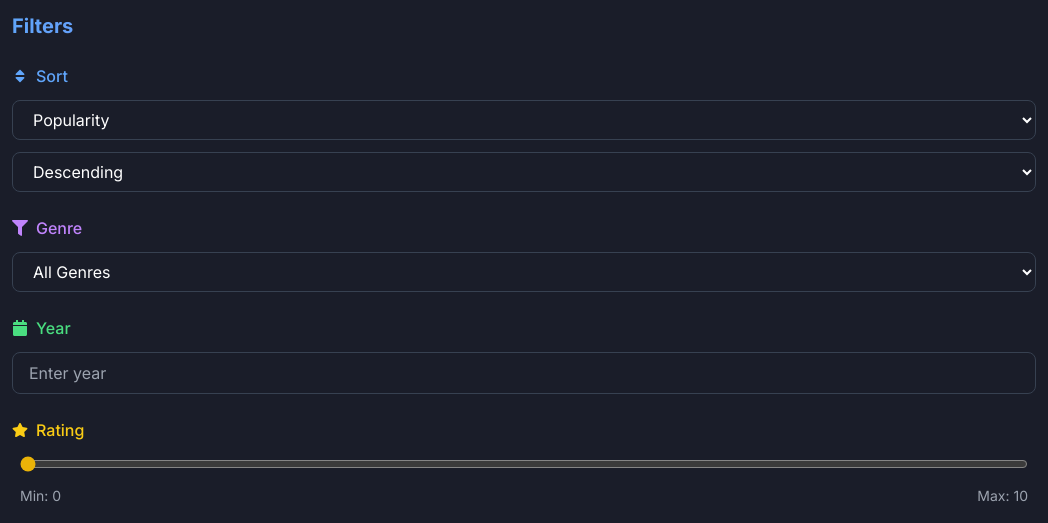
Test: FilterBar › displays current rating value
The width and height of the screenshot is (1048, 523).
Set the slider to "6.5" at {"x": 673, "y": 464}, box x1=20 y1=456 x2=1028 y2=472
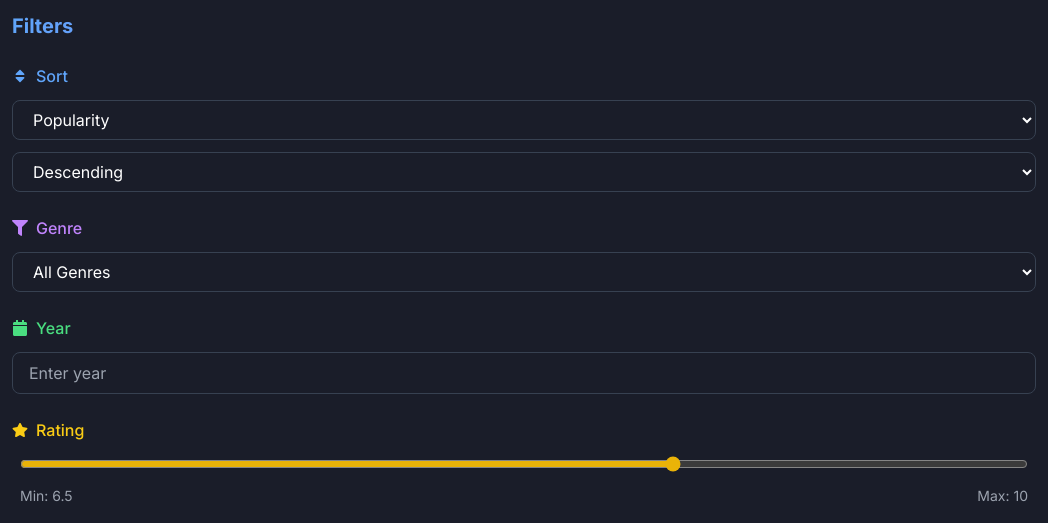
Expected: the text "Max: 10" is shown, x1=977 y1=486 x2=1028 y2=506
Expected: the text "Min: 6.5" is shown, x1=20 y1=486 x2=73 y2=506
